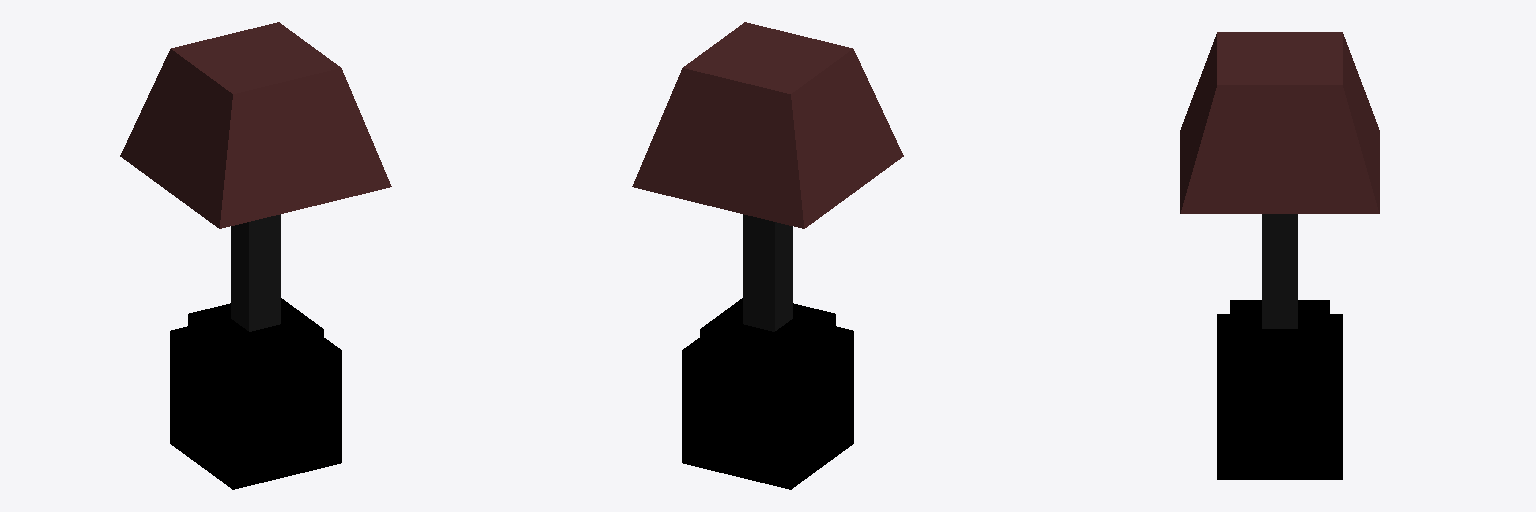
File: TextureLampy.obj
The picture shows the model from 3 angles: view 1: azimuth 30°, elevation 25°; view 2: azimuth 150°, elevation 25°; view 3: azimuth 270°, elevation 25°; orthographic projection.
Visible parts, largest first — view 1: group1_pasted__pCube1; view 2: group1_pasted__pCube1; view 3: group1_pasted__pCube1.
Boxes of the visible parts, <box> form: group1_pasted__pCube1: <box>120,22,391,489</box>; group1_pasted__pCube1: <box>632,22,903,489</box>; group1_pasted__pCube1: <box>1180,32,1379,479</box>.
Size of the model in its own units: 4.69 by 10.28 by 4.69.